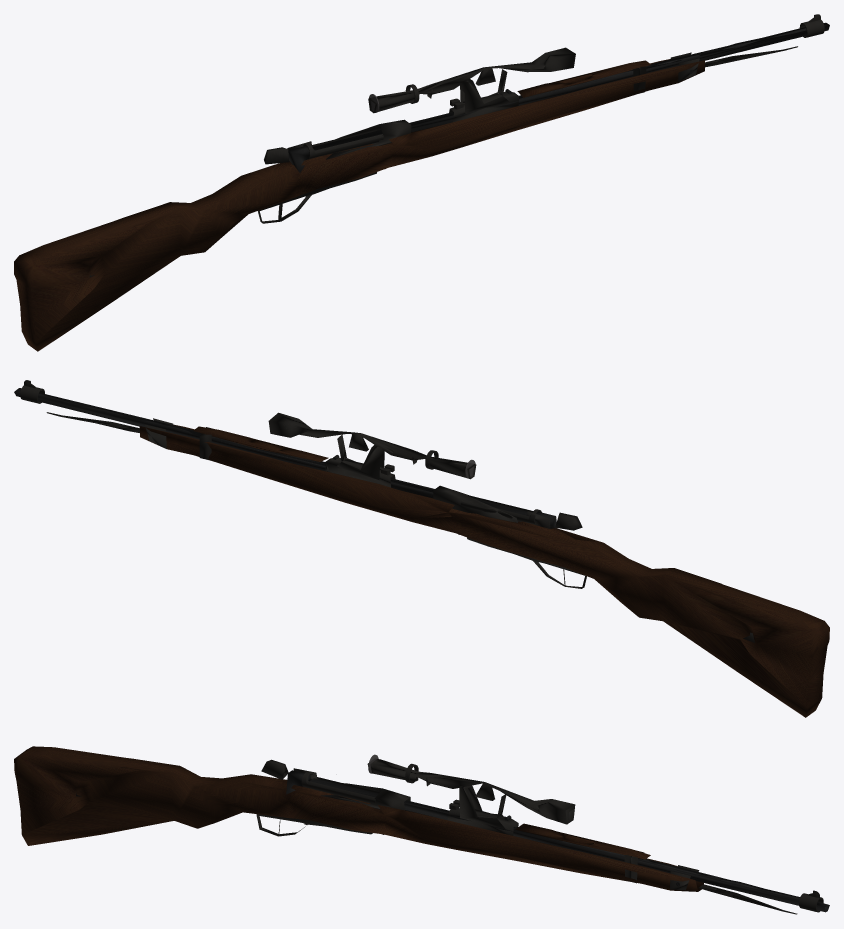
File: kar_98_lod2.glb
3 views of the same model, one above another, from view 1: azimuth 30°, elevation 25°; view 2: azimuth 150°, elevation 25°; view 3: azimuth 330°, elevation 25° (orthographic).
Visible parts, largest first — view 1: Receiver_And_Body, Scope_Assembly, Bolt_Carrier; view 2: Receiver_And_Body, Scope_Assembly, Bolt_Carrier; view 3: Receiver_And_Body, Scope_Assembly, Bolt_Carrier, Trigger_Gatilho, Bolt_Safety_Sleeve.
Boxes of the visible parts, <box> form: Receiver_And_Body: <box>14,14,829,351</box>; Scope_Assembly: <box>368,47,575,122</box>; Bolt_Carrier: <box>287,129,383,164</box>; Receiver_And_Body: <box>14,380,829,717</box>; Scope_Assembly: <box>268,412,476,487</box>; Bolt_Carrier: <box>460,495,554,528</box>; Receiver_And_Body: <box>14,746,829,914</box>; Scope_Assembly: <box>367,754,575,835</box>; Bolt_Carrier: <box>293,768,379,803</box>; Trigger_Gatilho: <box>256,814,372,836</box>; Bolt_Safety_Sleeve: <box>261,759,288,779</box>.
Bounding box in the file's own units: 0.8463 × 0.1706 × 0.0272.
Materials: 6 (4 with a texture image).
